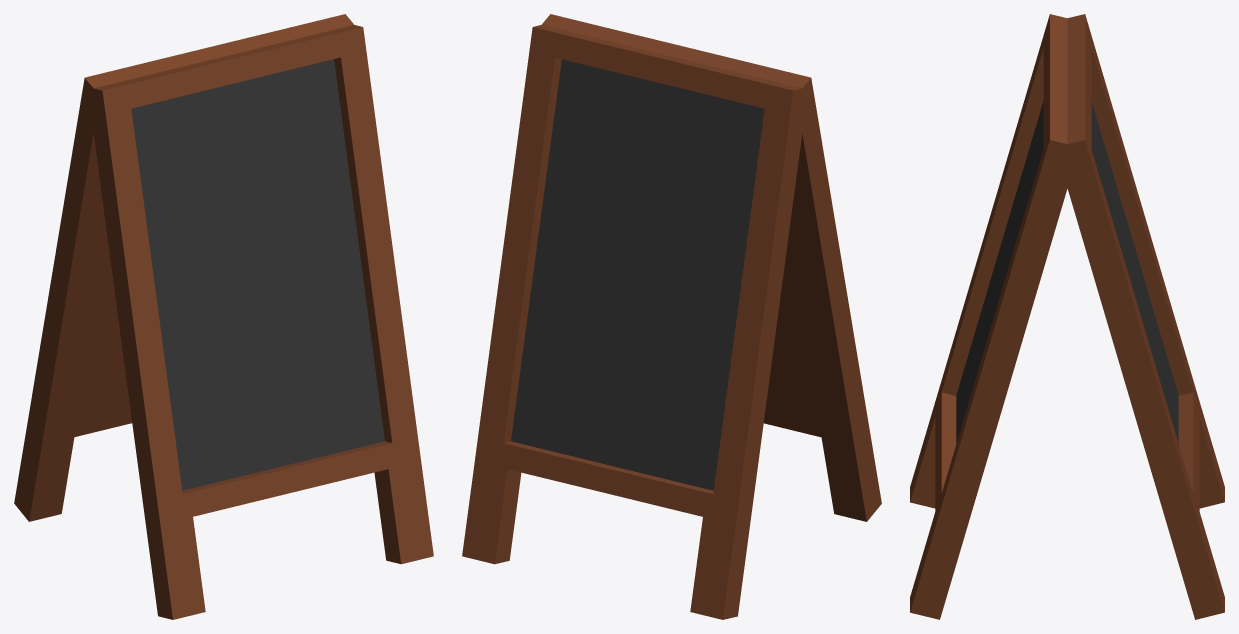
The model's file is Chalk_Board.glb.
3 views of the same model, side by side, from view 1: azimuth 30°, elevation 25°; view 2: azimuth 150°, elevation 25°; view 3: azimuth 270°, elevation 25° (orthographic).
Visible parts, largest first — view 1: Chalk Board; view 2: Chalk Board; view 3: Chalk Board.
Part boxes in pixels (left/top/right/bottom): Chalk Board: left=14, top=14, right=433, bottom=619; Chalk Board: left=462, top=14, right=881, bottom=619; Chalk Board: left=910, top=14, right=1224, bottom=619.
Bounding box in the file's own units: 0.5347 × 0.9503 × 0.5646.
